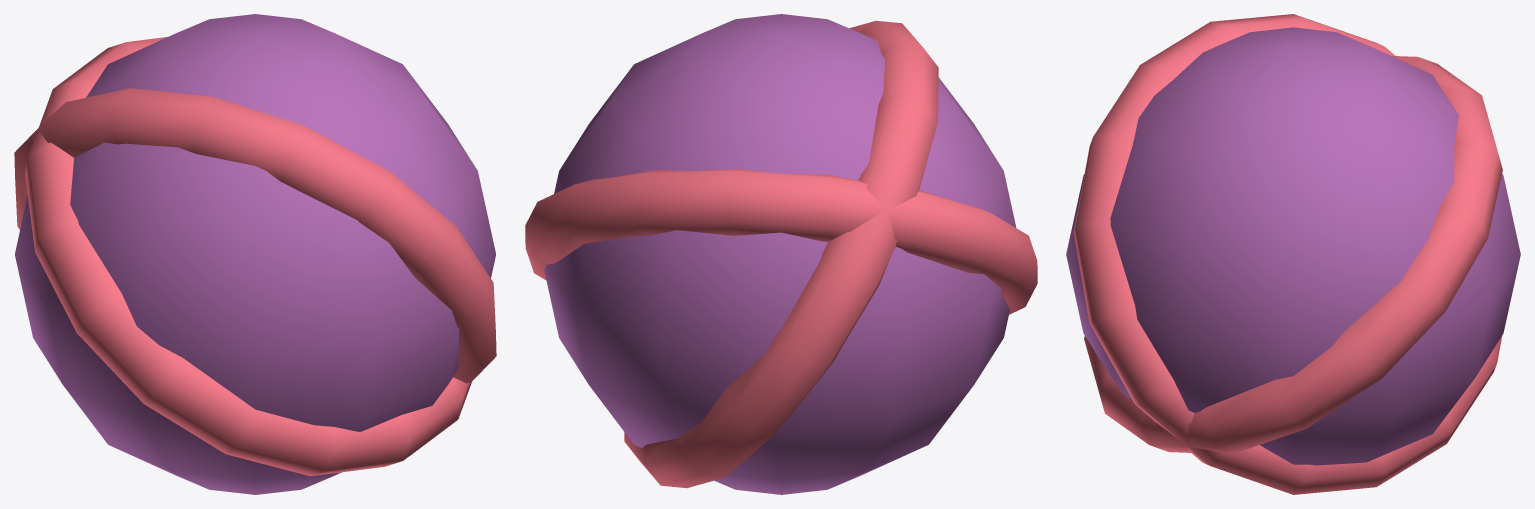
Rendered from yarn.glb.
3 views of the same model, side by side, from view 1: azimuth 30°, elevation 25°; view 2: azimuth 150°, elevation 25°; view 3: azimuth 270°, elevation 25° (orthographic). The views are drawn at different scales.
Parts seen in each view (by area): view 1: yarn, yarn_band, yarn_band2; view 2: yarn, yarn_band, yarn_band2; view 3: yarn, yarn_band, yarn_band2.
Boxes of the visible parts, x1,y1,x2,y2 form: yarn: (15, 14, 495, 494); yarn_band: (25, 37, 471, 476); yarn_band2: (14, 88, 496, 383); yarn: (544, 14, 1016, 494); yarn_band: (525, 168, 1037, 314); yarn_band2: (624, 20, 938, 488); yarn: (1066, 27, 1520, 465); yarn_band: (1084, 56, 1502, 454); yarn_band2: (1073, 14, 1502, 494).
Bounding box in the file's own units: 0.1662 × 0.16 × 0.16.
